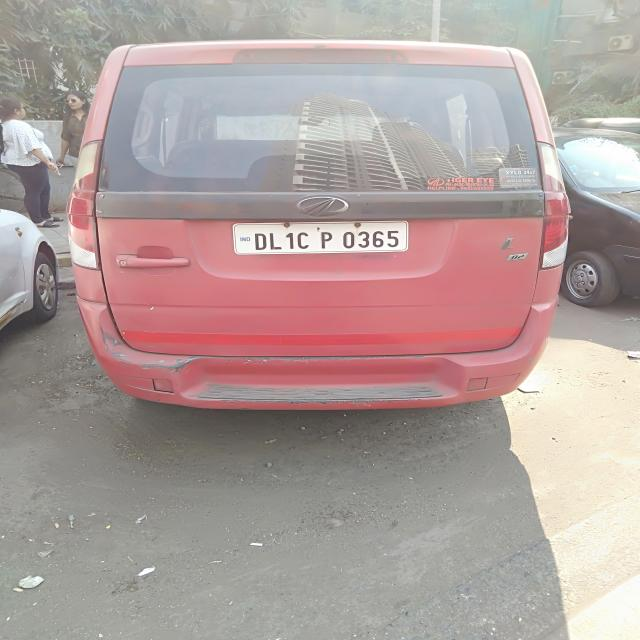Number-Plate: (230, 222, 410, 255)
